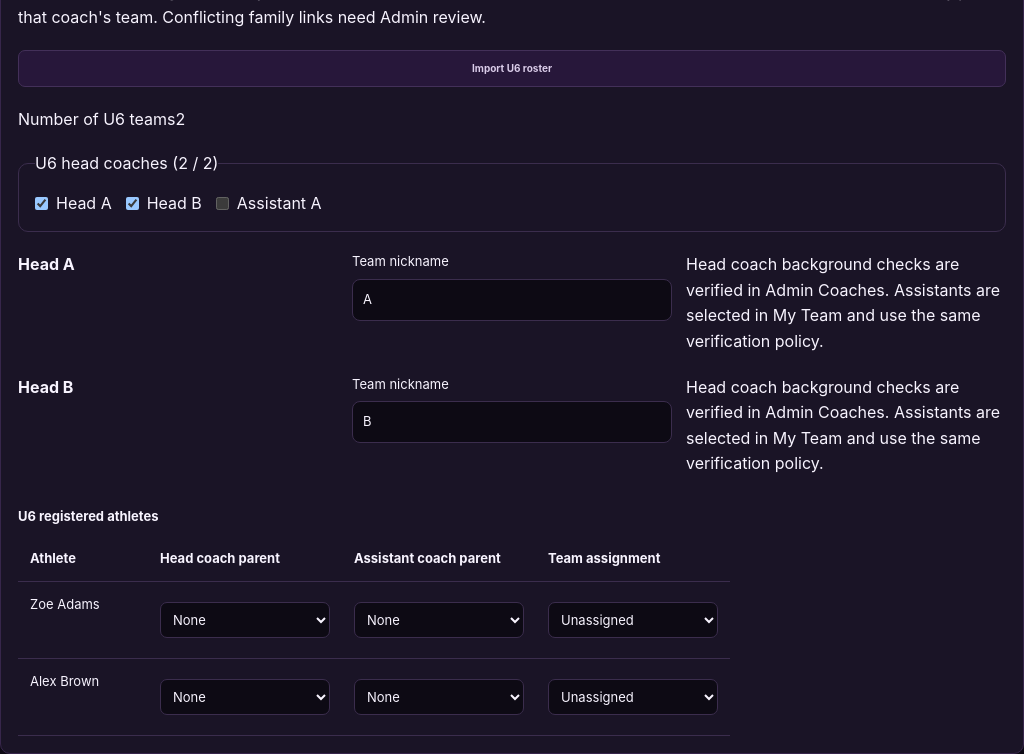
assigns children automatically, supports direct placement and flags conflicting parents
(page scrolled)
Check: the row "Zoe Adams" is shown, box [18, 582, 730, 659]
Check: the row "Alex Brown" is shown, box [18, 659, 730, 736]
Step 1. Select "Head B" in the dropdown named "Assign Alex Brown" → [633, 697], box [548, 679, 718, 715]
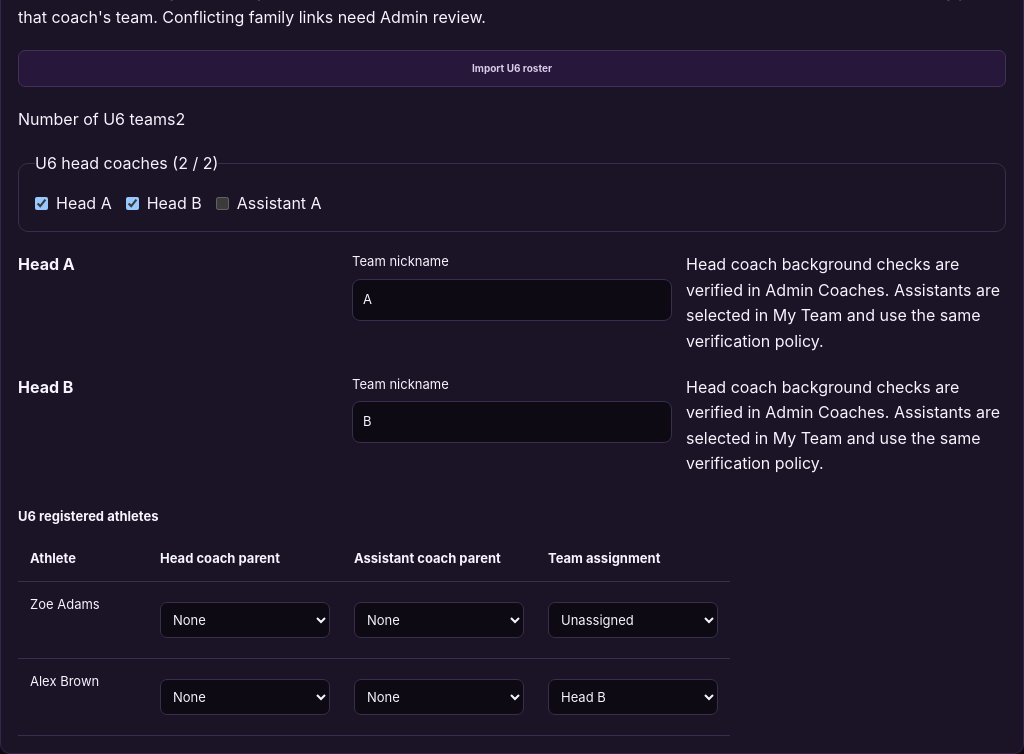
Step 2. Select "Assistant A" in the dropdown named "Zoe Adams assistantCoachChild" → [439, 620], box [354, 602, 524, 638]
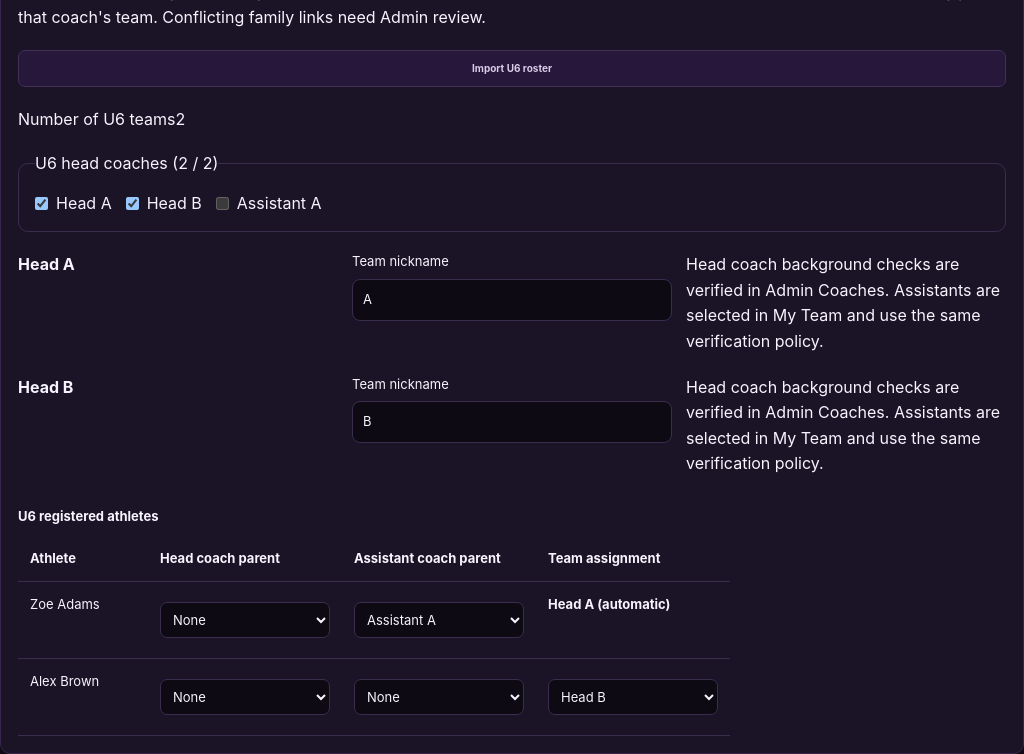
Check: the text "Head A (automatic)" is shown, box [548, 596, 670, 612]
Step 3. Select "Head B" in the dropdown named "Zoe Adams coachChild" → [245, 620], box [160, 602, 330, 638]
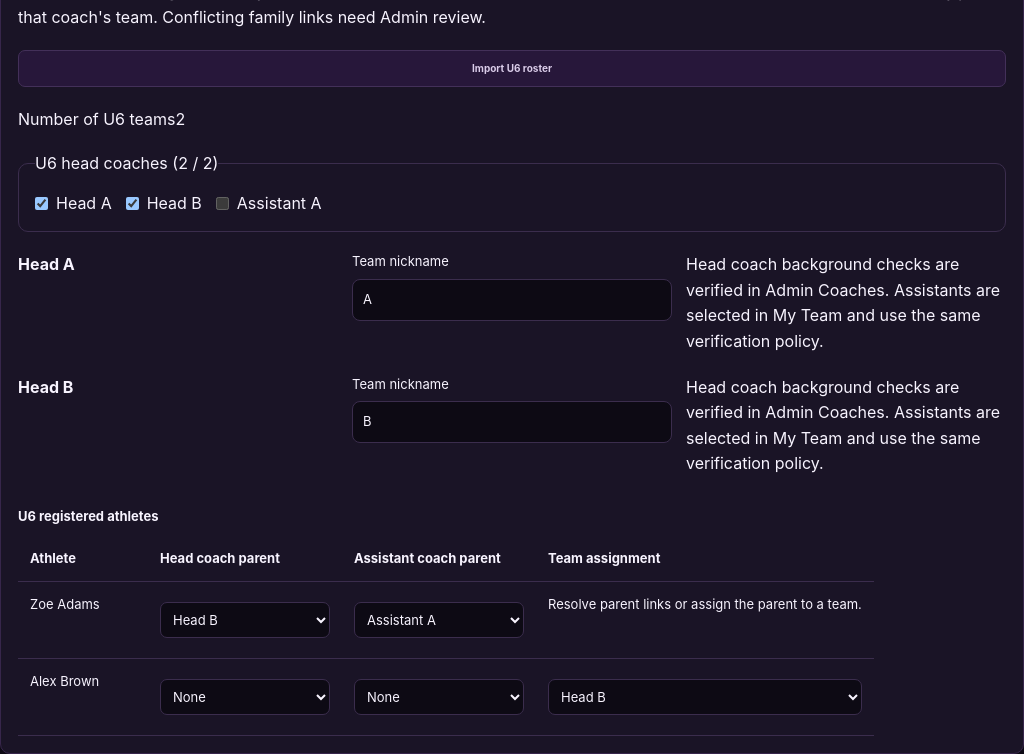
Check: the message shows "Resolve parent links", box [548, 596, 862, 612]
